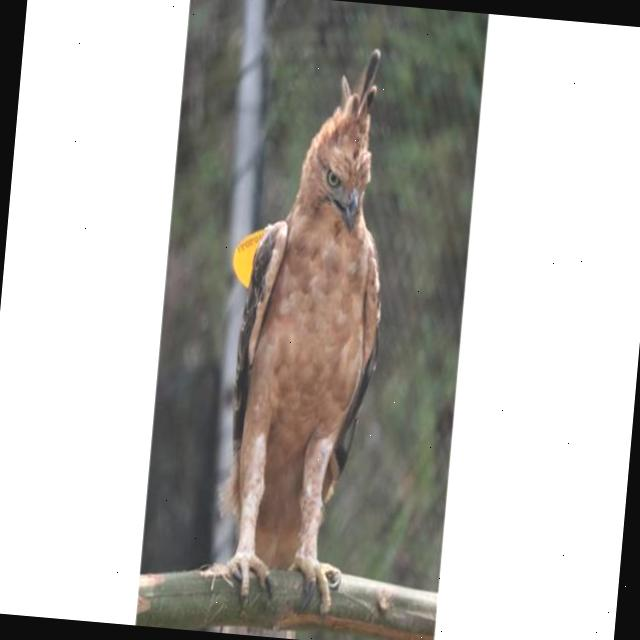Elang Jawa: (171, 5, 434, 640)
